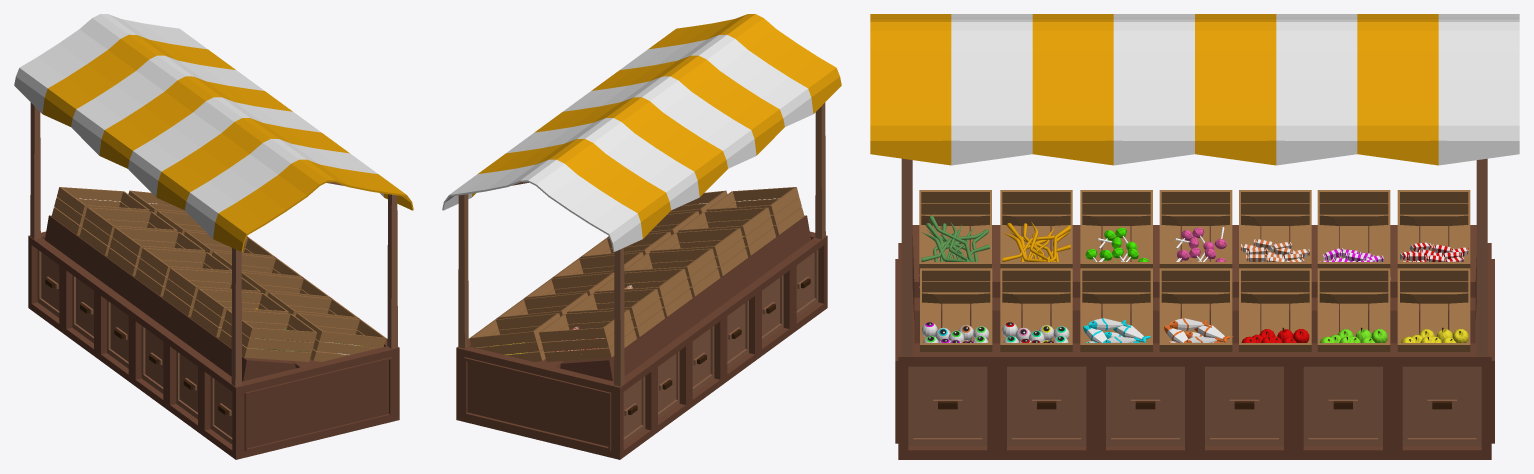
Rendered from puestoIngredientes3.fbx.
3 renders of one model, left to right at view 1: azimuth 30°, elevation 25°; view 2: azimuth 150°, elevation 25°; view 3: azimuth 270°, elevation 25°, orthographic. The views are drawn at different scales.
Parts seen in each view (by area): view 1: Base, ToldoColor, ToldoBlanco, Cajones, Postes, Cube.2398, Cube.2391, Cube.2404, Cube.2402, Cube.2401, Cube.2403, Cube.2400 (+8 smaller); view 2: Base, ToldoBlanco, ToldoColor, Cajones, Postes, Cube.2404, Cube.2397, Cube.2398, Cube.2399, Cube.2401, Cube.2400, Cube.2403 (+8 smaller); view 3: ToldoColor, ToldoBlanco, Cajones, Base, Cube.2396, Cube.2397, Cube.2395, Cube.2403, Cube.2392, Cube.2391, Cube.2394, Cube.2393 (+8 smaller).
Part boxes in pixels (x1,y1,x2,y2): Base: (28, 204, 399, 459); ToldoColor: (42, 34, 413, 251); ToldoBlanco: (14, 14, 383, 238); Cajones: (37, 250, 232, 444); Postes: (30, 102, 397, 386); Cube.2398: (219, 309, 316, 361); Cube.2391: (295, 313, 386, 361); Cube.2404: (51, 187, 149, 235); Cube.2402: (107, 227, 205, 275); Cube.2401: (135, 248, 231, 296); Cube.2403: (79, 207, 177, 255); Cube.2400: (162, 268, 260, 316); Base: (456, 204, 827, 459); ToldoBlanco: (442, 34, 813, 251); ToldoColor: (472, 14, 841, 238); Cajones: (623, 250, 818, 444); Postes: (458, 102, 825, 386); Cube.2404: (539, 309, 636, 361); Cube.2397: (469, 313, 559, 361); Cube.2398: (706, 187, 804, 235); Cube.2399: (678, 207, 775, 255); Cube.2401: (624, 248, 720, 296); Cube.2400: (650, 228, 747, 276); Cube.2403: (567, 289, 664, 337); ToldoColor: (870, 14, 1438, 165); ToldoBlanco: (951, 14, 1519, 165); Cajones: (908, 366, 1481, 446); Base: (895, 225, 1494, 459); Cube.2396: (1317, 268, 1390, 351); Cube.2397: (1397, 268, 1470, 351); Cube.2395: (1239, 268, 1311, 351); Cube.2403: (1317, 190, 1390, 268); Cube.2392: (1000, 268, 1072, 351); Cube.2391: (920, 268, 992, 351); Cube.2394: (1159, 268, 1232, 351); Cube.2393: (1080, 268, 1152, 351).
Size of the model in its own units: 720 by 1065 by 1645.
